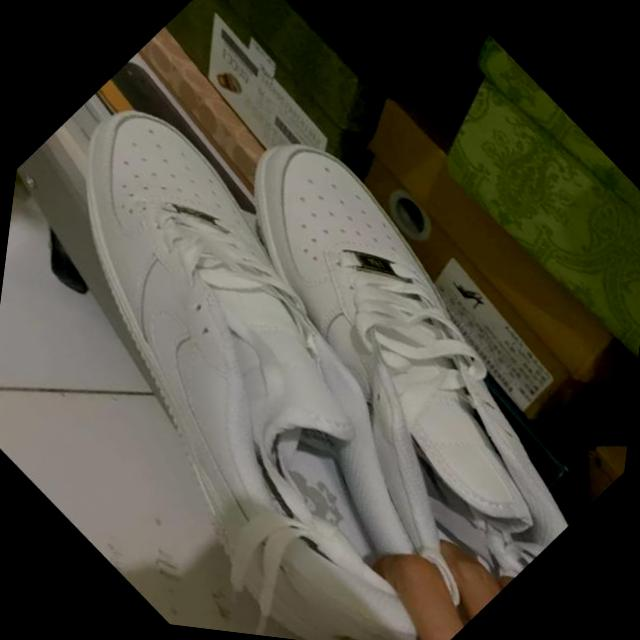nike_fake_airforce: (0, 71, 602, 640), (97, 92, 640, 629)
